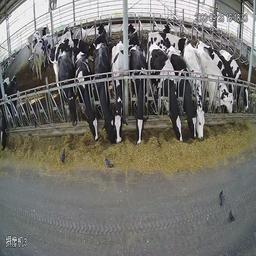cow: (147, 43, 183, 143), (75, 49, 100, 143), (204, 46, 233, 121), (129, 44, 146, 146), (100, 42, 115, 143), (55, 53, 76, 123), (196, 48, 211, 140), (232, 49, 251, 115), (115, 40, 127, 144), (182, 57, 196, 139), (35, 33, 49, 83)
